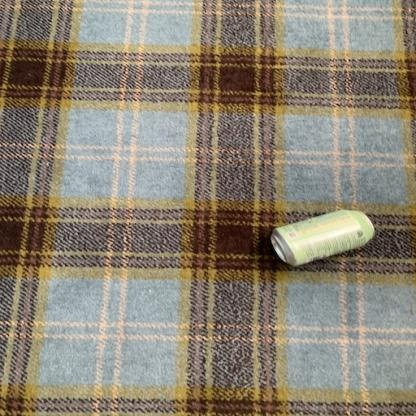trash: (271, 210, 374, 265)
